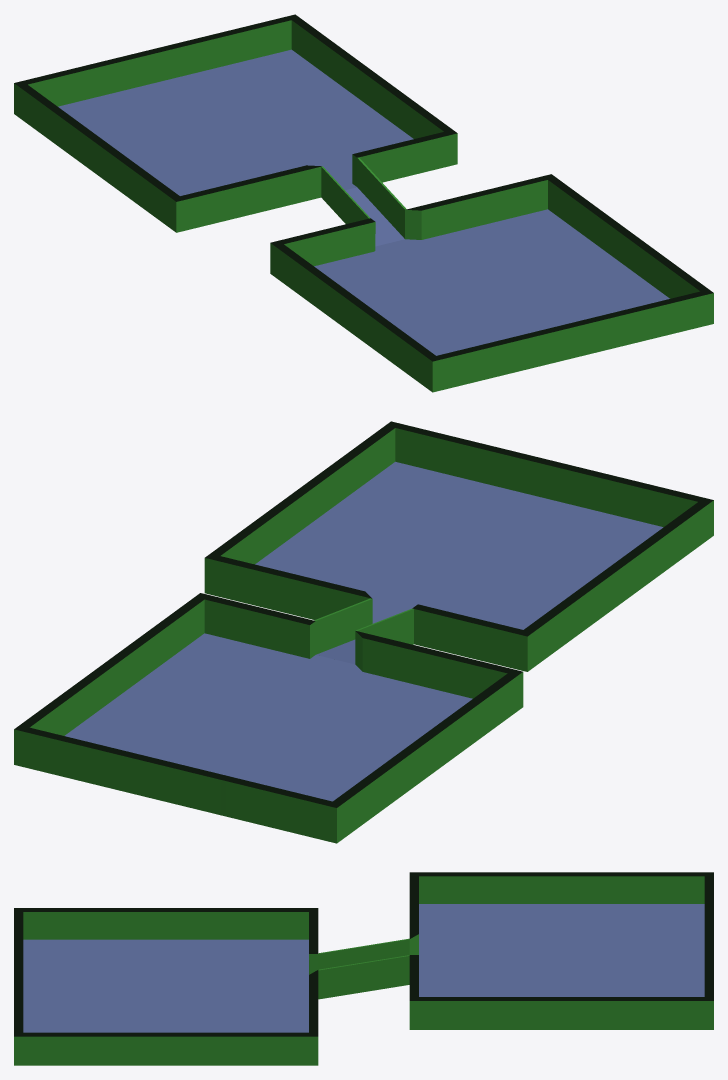
File: Two-levels.dae
3 renders of one model, top to bottom at view 1: azimuth 30°, elevation 25°; view 2: azimuth 150°, elevation 25°; view 3: azimuth 270°, elevation 25°, orthographic. The views are drawn at different scales.
Parts seen in each view (by area): view 1: Curve; view 2: Curve; view 3: Curve.
Part boxes in pixels (<box>): Curve: <box>14,14,713,392</box>; Curve: <box>14,421,713,843</box>; Curve: <box>14,872,713,1065</box>.
Size of the model in its own units: 23.2 by 46 by 3.19.
